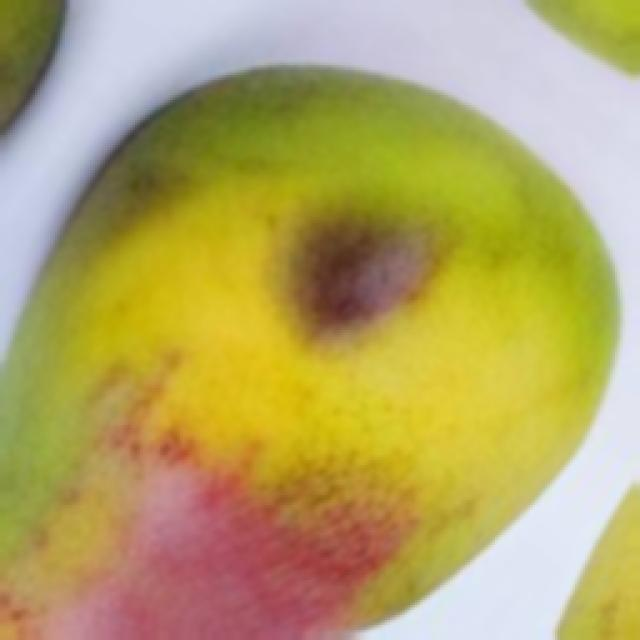defective: (0, 58, 622, 638)
